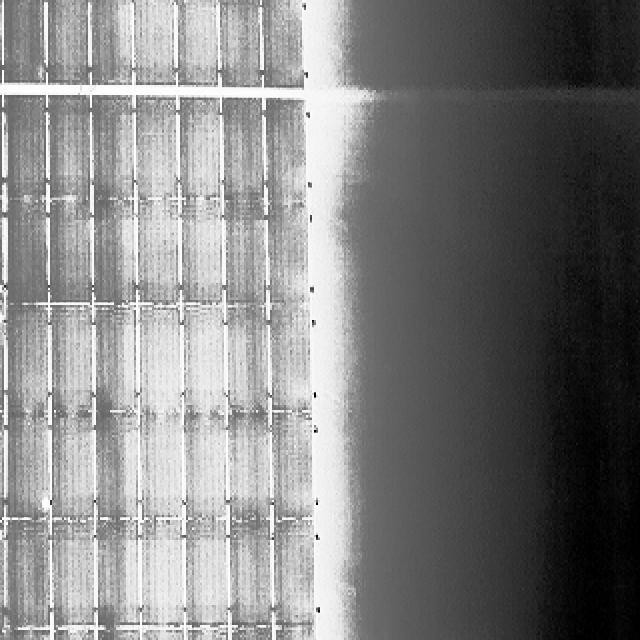Hotspots: (36, 492, 52, 516), (0, 275, 4, 295)
PV-modules: (136, 520, 183, 630), (5, 307, 52, 417), (4, 520, 51, 630), (136, 306, 183, 414), (1, 201, 48, 309), (222, 310, 268, 420), (49, 417, 96, 524), (259, 95, 305, 204), (185, 311, 230, 422), (269, 414, 314, 525), (224, 412, 270, 520), (51, 520, 97, 628), (224, 200, 270, 307), (48, 307, 94, 414), (136, 410, 181, 519), (185, 522, 231, 628), (93, 198, 138, 306), (92, 411, 137, 519), (92, 520, 136, 630), (269, 304, 313, 414), (3, 417, 49, 522), (136, 197, 180, 306), (92, 95, 137, 201), (184, 416, 228, 524), (46, 94, 91, 199), (2, 94, 46, 201), (94, 308, 138, 414), (220, 96, 264, 202), (48, 202, 92, 308), (232, 522, 276, 627), (179, 96, 223, 201), (272, 523, 314, 632), (134, 97, 178, 201), (0, 0, 52, 88), (181, 204, 224, 310), (267, 204, 310, 308), (216, 0, 262, 90), (262, 1, 306, 93), (175, 1, 220, 90), (86, 0, 130, 87), (132, 2, 176, 89), (45, 0, 89, 86), (136, 625, 182, 640), (0, 200, 6, 310), (232, 625, 276, 640), (0, 415, 6, 523), (272, 627, 318, 640), (184, 630, 232, 640), (4, 630, 50, 640), (96, 630, 142, 640), (52, 630, 96, 640), (0, 520, 4, 630), (0, 0, 4, 82), (0, 92, 2, 198), (0, 627, 10, 640)
